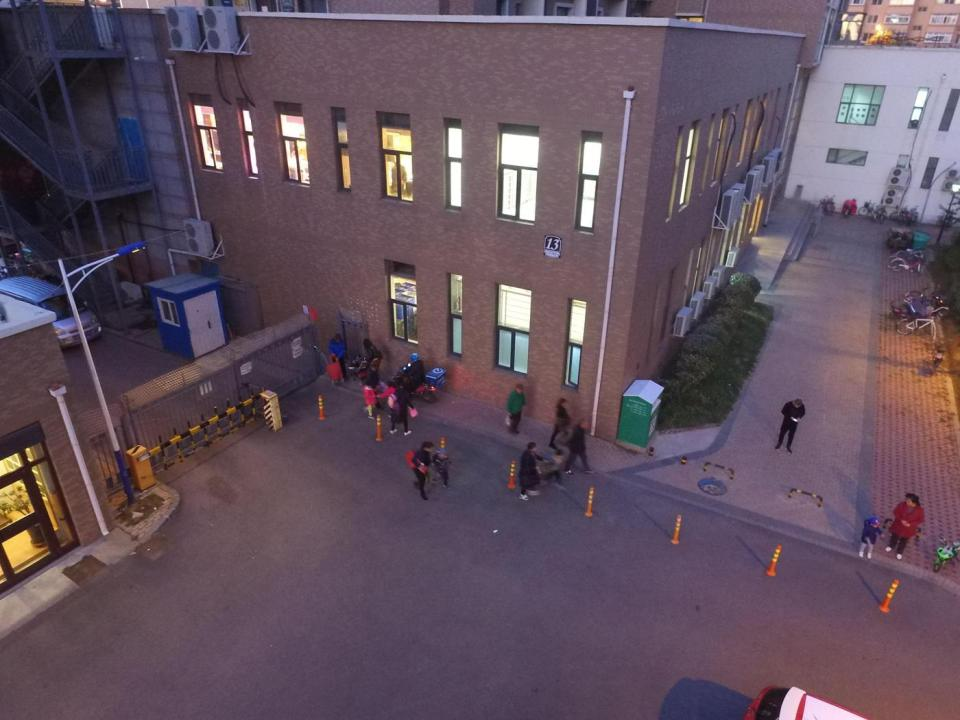van: (0, 273, 102, 356)
